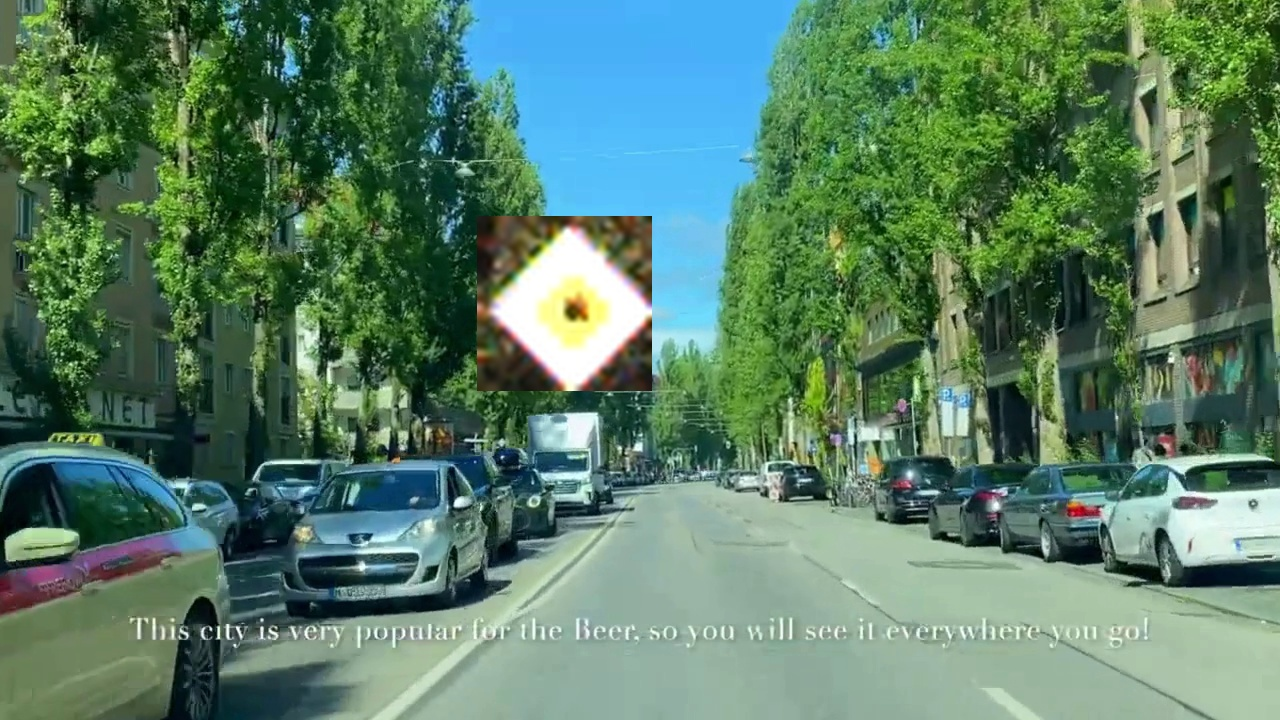Priority road: (477, 216, 652, 391)
